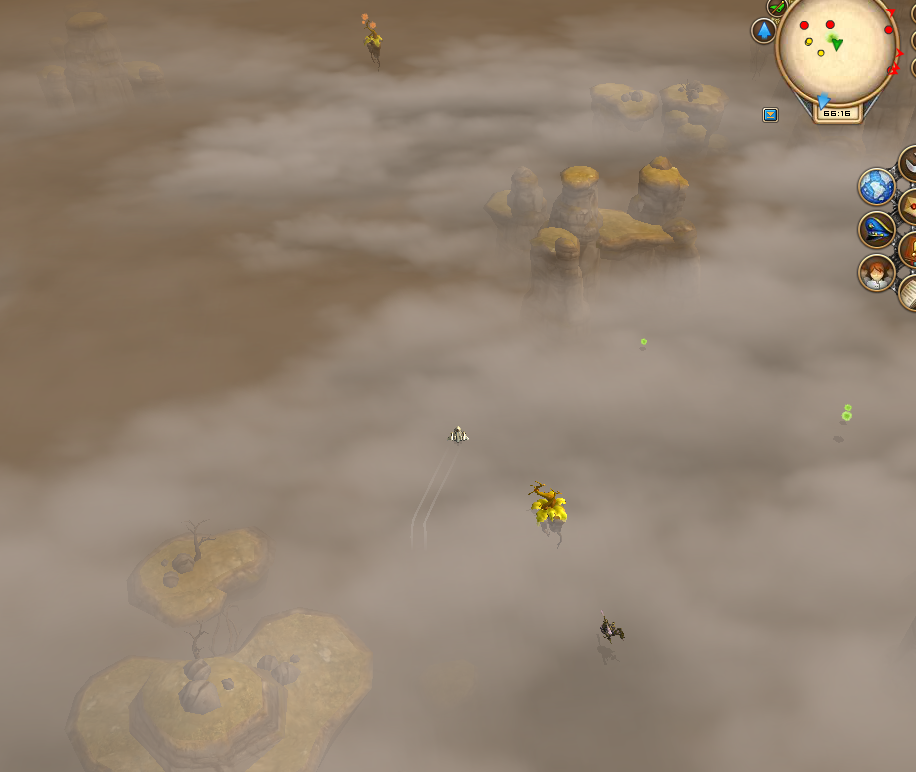dandelion-empty: (527, 477, 571, 549)
dandelion-full: (354, 7, 387, 68)
fluff: (840, 400, 857, 415), (840, 409, 853, 427), (636, 334, 650, 350)
